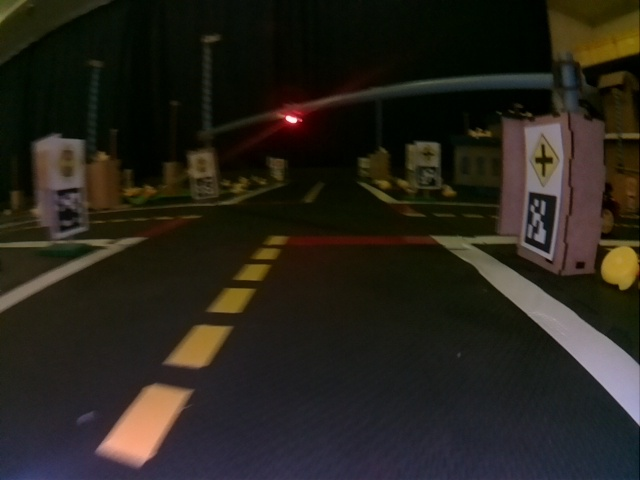Duckie: (602, 247, 637, 287), (445, 186, 456, 196)
Intersection sign: (528, 130, 561, 186), (418, 143, 439, 163)
QR code: (525, 195, 559, 252), (53, 191, 86, 233), (416, 166, 439, 186), (195, 179, 215, 199)
Signal sign: (54, 140, 83, 185), (192, 153, 213, 175)
Traffic light: (284, 104, 301, 125)
